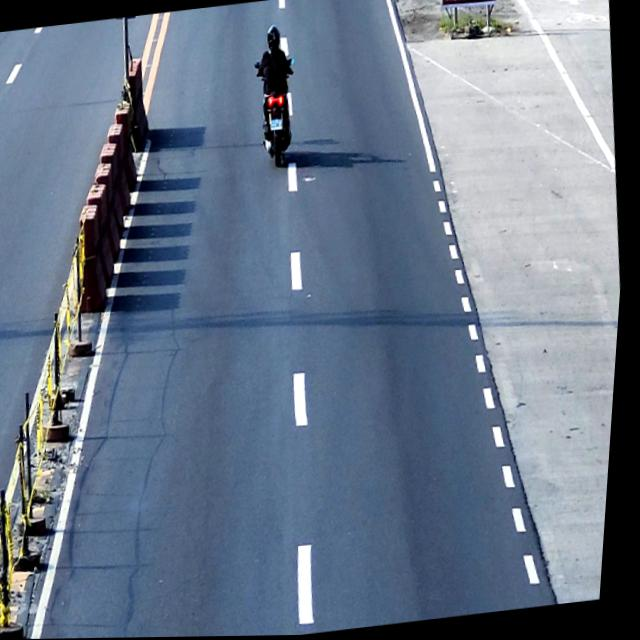License-Plate: (271, 118, 285, 131)
Motorcycle: (249, 53, 307, 171)
